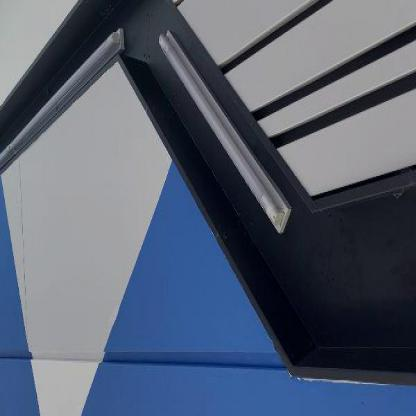light_off: (151, 16, 294, 249), (0, 16, 128, 210)
